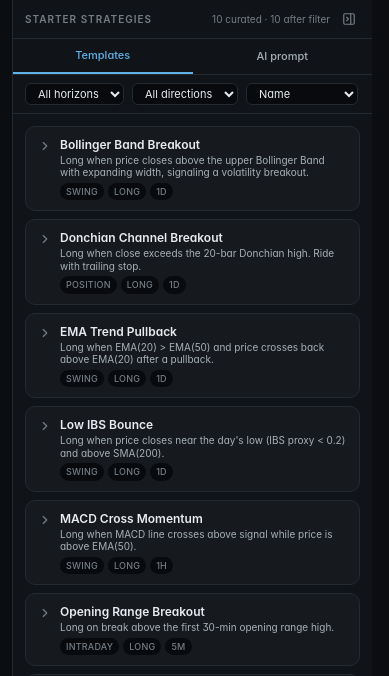
Test: <StarterStrategyPanel /> › expanded card shows 'About this strategy' block with edge, best_on, why_it_works
The image size is (389, 676).
Click the button with aria-label "expand strategy details": click(192, 168) left=26, top=126, right=359, bottom=210
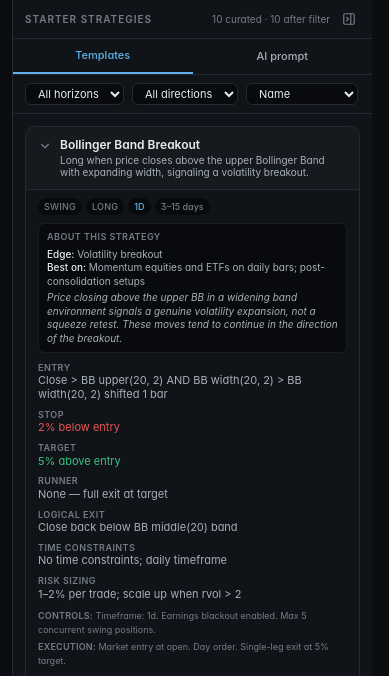
Expected: the text "About this strategy" is shown, left=47, top=231, right=161, bottom=242
